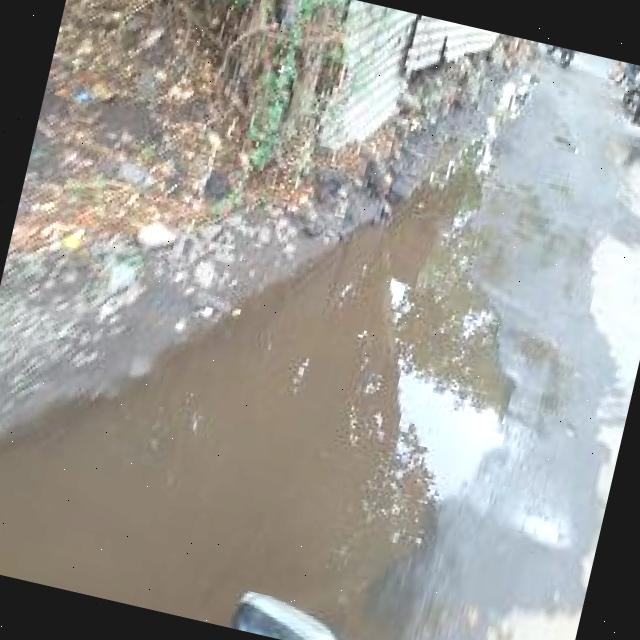waterlogging: (266, 263, 640, 540)
